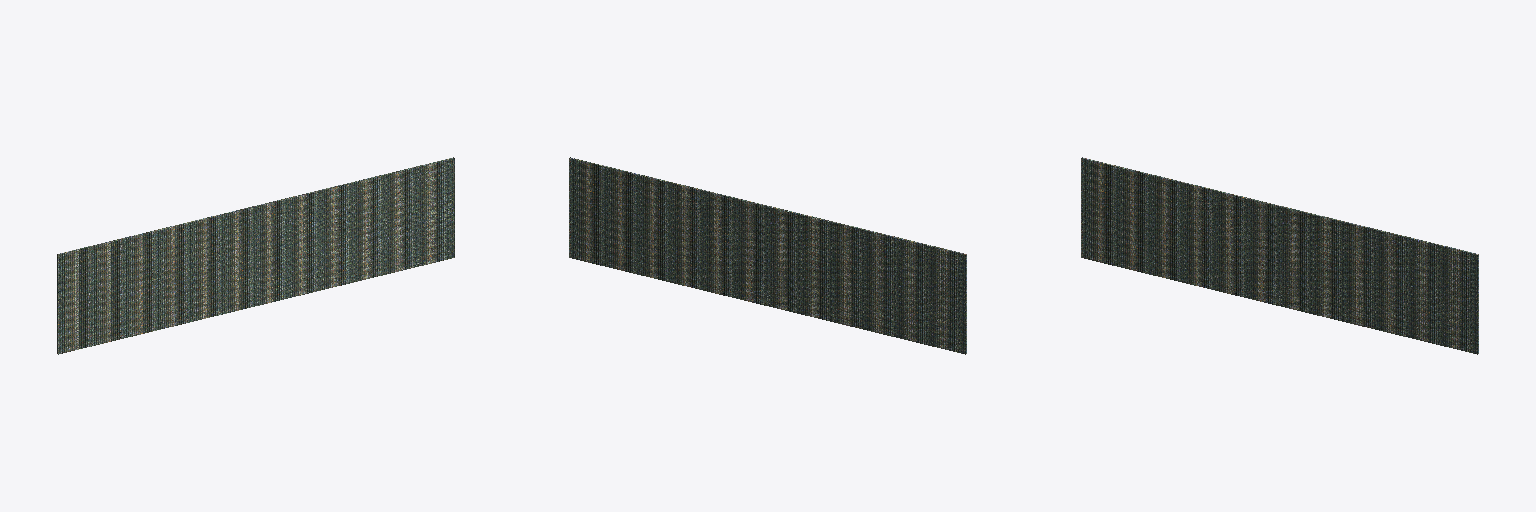
The picture shows the model from 3 angles: view 1: azimuth 30°, elevation 25°; view 2: azimuth 150°, elevation 25°; view 3: azimuth 330°, elevation 25°; orthographic projection.
Parts seen in each view (by area): view 1: Cube; view 2: Cube; view 3: Cube.
Boxes of the visible parts, <box> form: Cube: <box>57,157,454,354</box>; Cube: <box>569,157,966,354</box>; Cube: <box>1081,157,1478,354</box>.
Bounding box in the file's own units: 100 × 24 × 0.5.
1 materials, 1 textured.